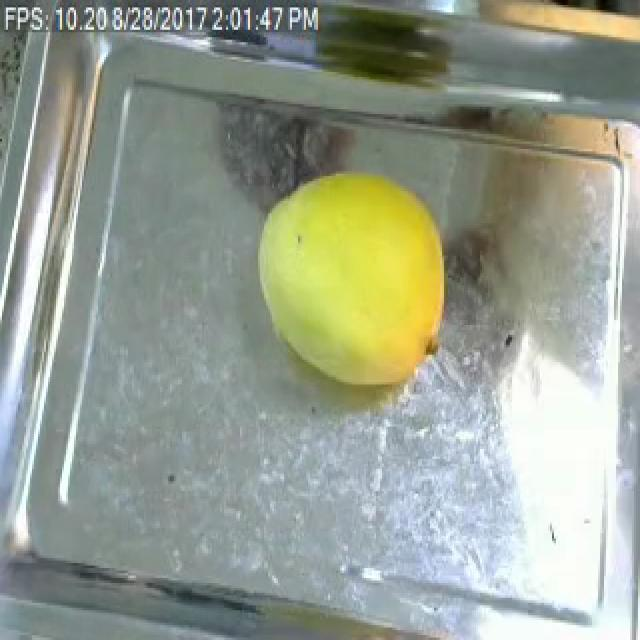fruit: (238, 149, 464, 407), (470, 0, 640, 64)
